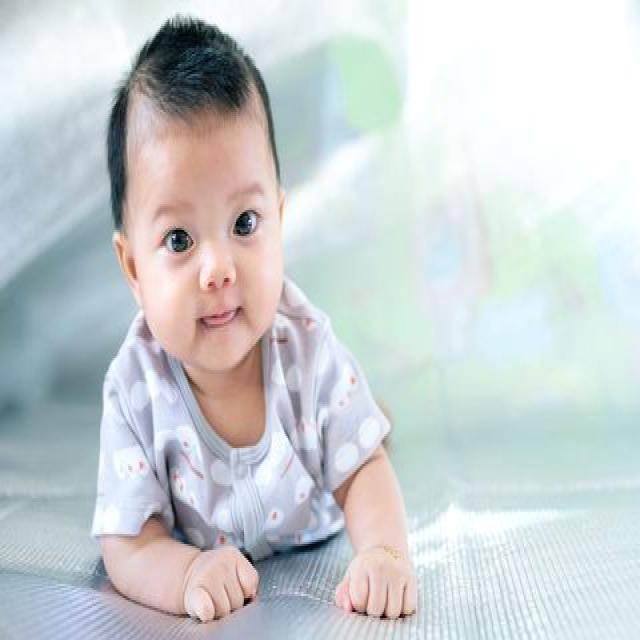non-dog: (87, 15, 413, 625)
